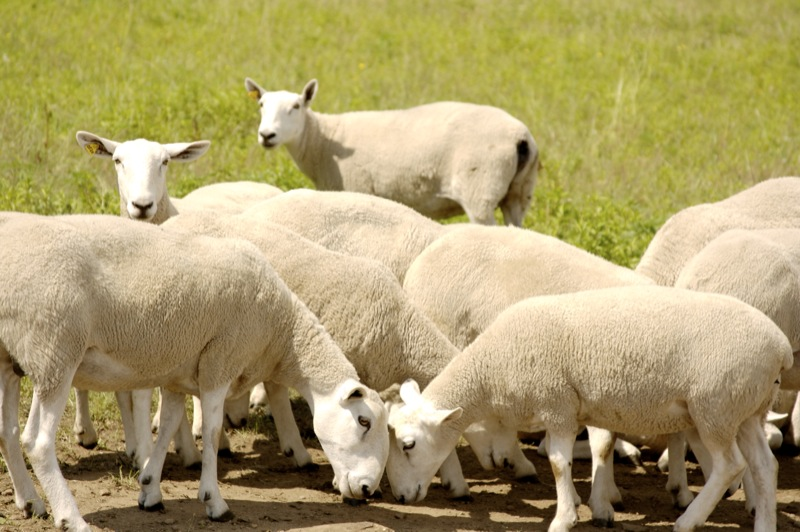sheep: (1, 207, 389, 531), (388, 291, 792, 531), (241, 74, 551, 218), (67, 127, 216, 218)
